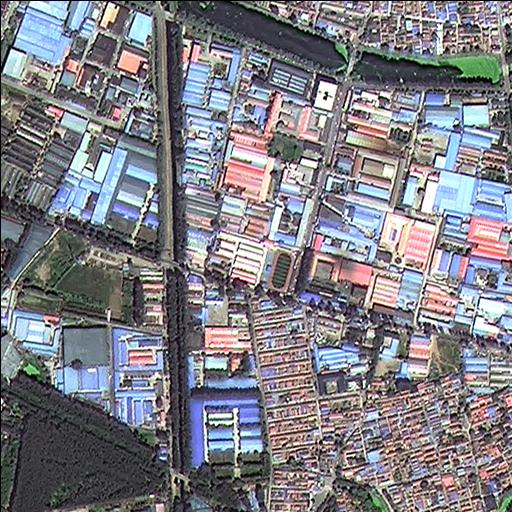school: (205, 232, 299, 292)
